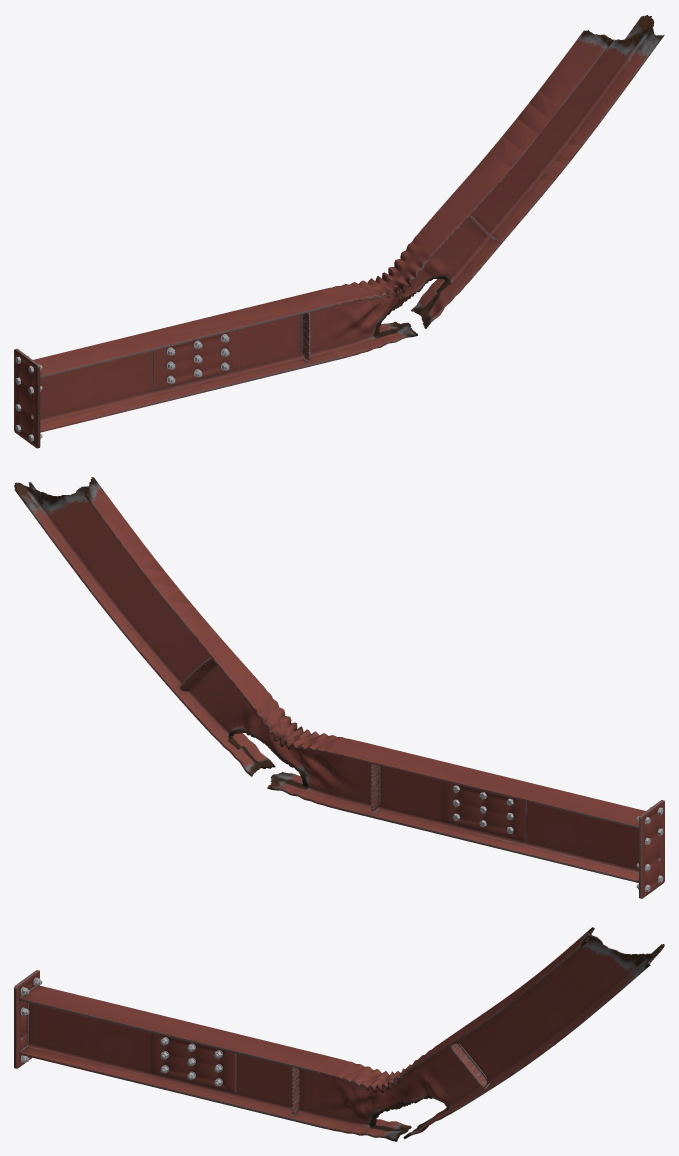
File: industrial_steel_girder_premium.glb
3 renders of one model, top to bottom at view 1: azimuth 30°, elevation 25°; view 2: azimuth 150°, elevation 25°; view 3: azimuth 330°, elevation 25°, orthographic.
Parts seen in each view (by area): view 1: industrial_steel_girder_premium, bolts; view 2: industrial_steel_girder_premium, bolts; view 3: industrial_steel_girder_premium, bolts.
Boxes of the visible parts, <box> form: industrial_steel_girder_premium: <box>14,15,664,448</box>; bolts: <box>15,334,229,441</box>; industrial_steel_girder_premium: <box>14,477,664,898</box>; bolts: <box>452,785,663,892</box>; industrial_steel_girder_premium: <box>14,927,664,1141</box>; bolts: <box>20,977,222,1086</box>.
Size of the model in its own units: 4 by 1.62 by 0.276.
3 materials, 1 textured.
